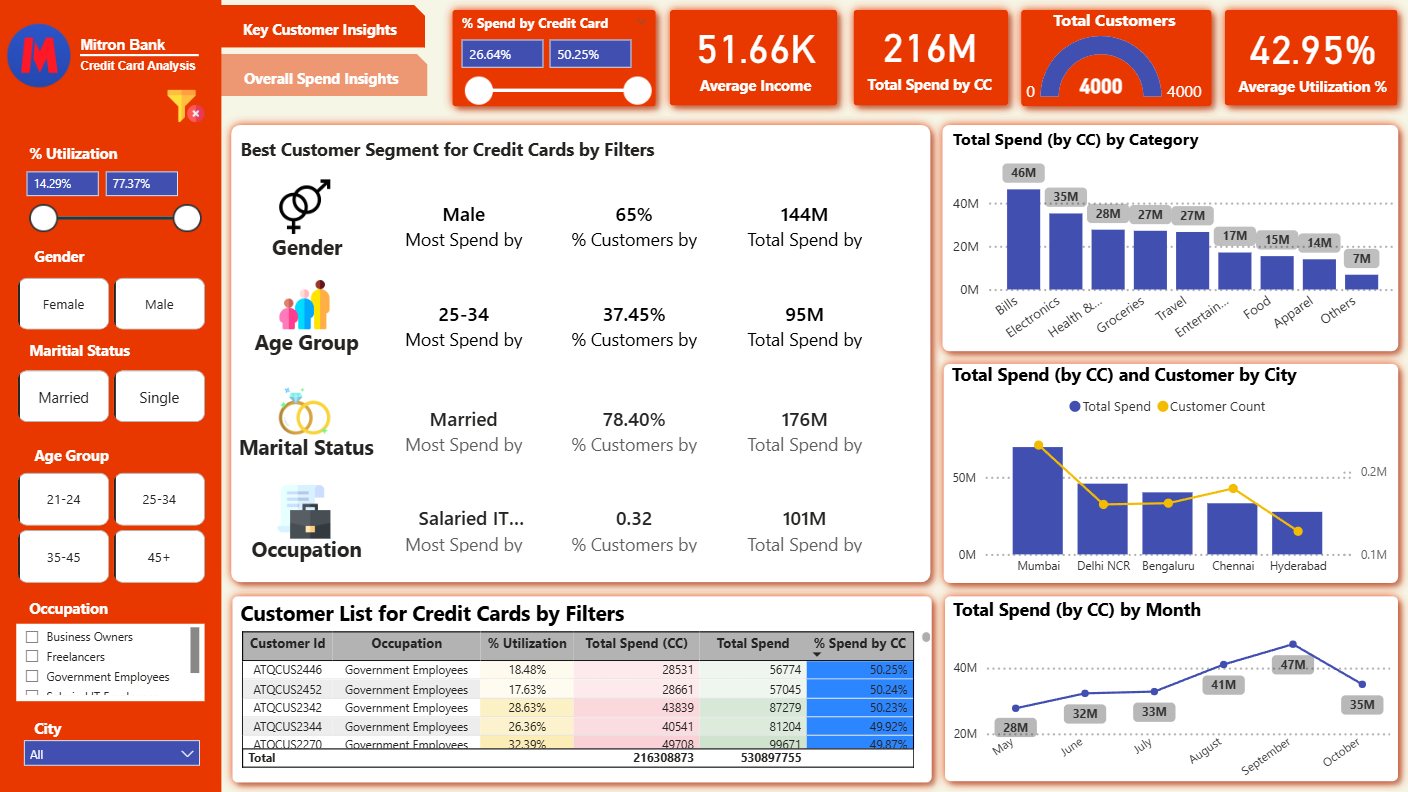

What the dashboard file says about the page in this screenshot:
{"tool":"powerbi","page":{"name":"Key Customers Insights","canvas":[1280,720],"ordinal":0},"visuals":[{"type":"group","id":"g1","title":"Shapes","box":[0,0,1280,720],"z":0},{"type":"shape","box":[0,0,201.2,720],"z":0,"group":"g1"},{"type":"shape","box":[1105,0,175,105],"z":1000,"group":"g1"},{"type":"advancedSlicerVisual","fields":{"Values":["dim_customers.gender"]},"box":[11.2,247.5,180,57.5],"z":1000},{"type":"shape","box":[919.8,0,191.1,105.6],"z":2000,"group":"g1"},{"type":"advancedSlicerVisual","fields":{"Values":["dim_customers.marital status"]},"box":[11.2,331.2,180,57.5],"z":2000},{"type":"shape","box":[766.7,0,158.3,105],"z":3000,"group":"g1"},{"type":"shape","box":[72.4,7.2,108.1,86.5],"z":3000},{"type":"shape","box":[600.1,0.5,170,105],"z":4000,"group":"g1"},{"type":"advancedSlicerVisual","fields":{"Values":["dim_customers.age_group"]},"box":[11.2,425,180,111.2],"z":4000},{"type":"shape","box":[402.3,0,202.9,105.7],"z":5000,"group":"g1"},{"type":"textbox","box":[67.8,26.7,143.3,64.4],"z":5000},{"type":"shape","box":[201.2,105,653.8,433.8],"z":6000,"group":"g1"},{"type":"slicer","title":"Occupation","fields":{"Values":["dim_customers.occupation"]},"box":[15,567.5,171.2,70],"z":6000},{"type":"image","box":[5,20,61.2,60],"z":7000},{"type":"shape","box":[202.5,532.5,653.8,187.5],"z":7000,"group":"g1"},{"type":"slicer","title":"% Utilization","fields":{"Values":["dim_customers.% Utilization"]},"box":[11.2,145,180,87.5],"z":8000},{"type":"shape","box":[850,532.5,430,186.2],"z":8000,"group":"g1"},{"type":"shape","box":[848.8,321.2,431.2,217.5],"z":9000,"group":"g1"},{"type":"slicer","title":"City","fields":{"Values":["dim_customers.city"]},"box":[11.2,662.5,180,41.2],"z":9000},{"type":"image","box":[152.5,80,33.8,33.8],"z":10000},{"type":"shape","box":[847.5,105,432.5,223.8],"z":10000,"group":"g1"},{"type":"slicer","fields":{"Values":["dim_customers.% Spend by Credit Card"]},"box":[406.2,7.5,193.8,95],"z":11000},{"type":"actionButton","box":[200.6,4.6,186.5,38.8],"z":12000},{"type":"actionButton","box":[200,48.8,188.8,38.8],"z":13000},{"type":"lineStackedColumnComboChart","title":"Total Spend (by CC) and Customer by City","fields":{"Category":["dim_customers.city"],"Y":["Measure.Total Spend by CC"],"Y2":["CountNonNull(fact_spends.customer_id)"]},"box":[860,328.8,406.2,203.8],"z":14000},{"type":"lineChart","title":"Total Spend (by CC) by Month","fields":{"Y":["Measure.Total Spend by CC"],"Category":["Month.Month_Name"]},"box":[861.2,542.5,407.5,176.2],"z":15000},{"type":"lineStackedColumnComboChart","title":"Total Spend (by CC) by Category","fields":{"Category":["fact_spends.category"],"Y":["Measure.Total Spend by CC"]},"box":[860.9,115.5,412.7,205.5],"z":16000},{"type":"tableEx","title":"Customer List for Credit Cards by Filters","fields":{"Values":["dim_customers.customer_id","dim_customers.occupation","dim_customers.% Utilization","Measure.Total Spend by CC","Sum(fact_spends.spend)","dim_customers.% Spend by Credit Card"]},"box":[213.3,544.4,637.8,158.9],"z":17000},{"type":"card","fields":{"Values":["Avg(dim_customers.% Utilization)"]},"box":[1120,5,146.2,92.5],"z":18000},{"type":"card","fields":{"Values":["Avg(dim_customers.avg_income)"]},"box":[611.3,6.7,151.2,86.2],"z":19000},{"type":"card","fields":{"Values":["Measure.Total Spend by CC"]},"box":[766.7,0,156.7,98.3],"z":20000},{"type":"gauge","fields":{"Y":["CountNonNull(dim_customers.customer_id)"]},"box":[920,7.5,185,90],"z":21000},{"type":"cardVisual","fields":{"Data":["Measure.Most Spend by Age","Measure.CC Holder % by Age","Measure.Total Spend by Age"]},"box":[330,257.5,496.2,76.2],"z":22000},{"type":"cardVisual","fields":{"Data":["Measure.Most Spend by Marital Status","Measure.CC Holder % by Marital Status","Measure.Total Spend by Marital Status"]},"box":[330,353.8,496.2,76.2],"z":23000},{"type":"cardVisual","fields":{"Data":["Measure.Most Spend by Occupation","Measure.CC Holder % by Occupation","Measure.Total Spend by Occupation"]},"box":[330,443.8,496.2,75],"z":24000},{"type":"cardVisual","fields":{"Data":["Measure.Most Spend by Gender","Measure.CC Holder % by Gender","Measure.Total Spend by Gender"]},"box":[330,167.5,496.2,76.2],"z":25000},{"type":"textbox","box":[213.8,118.8,535,41.2],"z":26000},{"type":"image","box":[251.9,159.3,49.3,57.9],"z":27000},{"type":"textbox","box":[210.9,206.4,135.7,40.7],"z":28000},{"type":"image","box":[249.7,255,53.6,45],"z":29000},{"type":"image","box":[250.1,440.7,52.9,48.6],"z":30000},{"type":"image","box":[247.6,347.9,57.9,52.1],"z":31000},{"type":"textbox","box":[208.1,292.9,141.4,41.4],"z":32000},{"type":"textbox","box":[207.3,388.6,142.9,41.4],"z":33000},{"type":"textbox","box":[208,481.6,141.6,41.6],"z":34000},{"type":"textbox","box":[26.2,647.5,160,30],"z":35000},{"type":"textbox","box":[21.2,125,160,30],"z":36000},{"type":"textbox","box":[26.2,218.8,160,30],"z":37000},{"type":"textbox","box":[21.2,305,160,30],"z":38000},{"type":"textbox","box":[26.2,400,160,30],"z":39000},{"type":"textbox","box":[21.2,538.8,160,30],"z":40000}]}

Visuals, with their boxes in screenshot pixels (x1, y1, x2, y2), scaled from the page's 1280x720 canvas onto the 1408x792 screenshot:
"Shapes" group: [left=0, top=0, right=1407, bottom=791]
shape: [left=0, top=0, right=221, bottom=791]
shape: [left=1216, top=0, right=1407, bottom=116]
advancedSlicerVisual - dim_customers.gender: [left=12, top=272, right=210, bottom=336]
shape: [left=1012, top=0, right=1222, bottom=116]
advancedSlicerVisual - dim_customers.marital status: [left=12, top=364, right=210, bottom=428]
shape: [left=843, top=0, right=1018, bottom=116]
shape: [left=80, top=8, right=199, bottom=103]
shape: [left=660, top=1, right=847, bottom=116]
advancedSlicerVisual - dim_customers.age_group: [left=12, top=468, right=210, bottom=590]
shape: [left=443, top=0, right=666, bottom=116]
textbox: [left=75, top=29, right=232, bottom=100]
shape: [left=221, top=116, right=941, bottom=593]
"Occupation" slicer: [left=16, top=624, right=205, bottom=701]
image: [left=6, top=22, right=73, bottom=88]
shape: [left=223, top=586, right=942, bottom=791]
"% Utilization" slicer: [left=12, top=160, right=210, bottom=256]
shape: [left=935, top=586, right=1407, bottom=791]
shape: [left=934, top=353, right=1407, bottom=593]
"City" slicer: [left=12, top=729, right=210, bottom=774]
image: [left=168, top=88, right=205, bottom=125]
shape: [left=932, top=116, right=1407, bottom=362]
slicer - dim_customers.% Spend by Credit Card: [left=447, top=8, right=660, bottom=113]
actionButton: [left=221, top=5, right=426, bottom=48]
actionButton: [left=220, top=54, right=428, bottom=96]
"Total Spend (by CC) and Customer by City" lineStackedColumnComboChart: [left=946, top=362, right=1393, bottom=586]
"Total Spend (by CC) by Month" lineChart: [left=947, top=597, right=1396, bottom=791]
"Total Spend (by CC) by Category" lineStackedColumnComboChart: [left=947, top=127, right=1401, bottom=353]
"Customer List for Credit Cards by Filters" tableEx: [left=235, top=599, right=936, bottom=774]
card - Avg(dim_customers.% Utilization): [left=1232, top=6, right=1393, bottom=107]
card - Avg(dim_customers.avg_income): [left=672, top=7, right=839, bottom=102]
card - Measure.Total Spend by CC: [left=843, top=0, right=1016, bottom=108]
gauge - CountNonNull(dim_customers.customer_id): [left=1012, top=8, right=1216, bottom=107]
cardVisual - Measure.Most Spend by Age x Measure.CC Holder % by Age: [left=363, top=283, right=909, bottom=367]
cardVisual - Measure.Most Spend by Marital Status x Measure.CC Holder % by Marital Status: [left=363, top=389, right=909, bottom=473]
cardVisual - Measure.Most Spend by Occupation x Measure.CC Holder % by Occupation: [left=363, top=488, right=909, bottom=571]
cardVisual - Measure.Most Spend by Gender x Measure.CC Holder % by Gender: [left=363, top=184, right=909, bottom=268]
textbox: [left=235, top=131, right=824, bottom=176]
image: [left=277, top=175, right=331, bottom=239]
textbox: [left=232, top=227, right=381, bottom=272]
image: [left=275, top=280, right=334, bottom=330]
image: [left=275, top=485, right=333, bottom=538]
image: [left=272, top=383, right=336, bottom=440]
textbox: [left=229, top=322, right=384, bottom=368]
textbox: [left=228, top=427, right=385, bottom=473]
textbox: [left=229, top=530, right=385, bottom=576]
textbox: [left=29, top=712, right=205, bottom=745]
textbox: [left=23, top=138, right=199, bottom=170]
textbox: [left=29, top=241, right=205, bottom=274]
textbox: [left=23, top=336, right=199, bottom=369]
textbox: [left=29, top=440, right=205, bottom=473]
textbox: [left=23, top=593, right=199, bottom=626]
